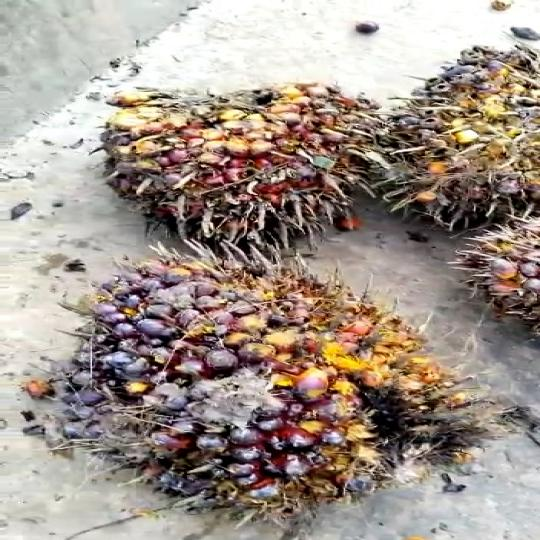masak: (30, 238, 480, 527), (112, 78, 410, 258)
